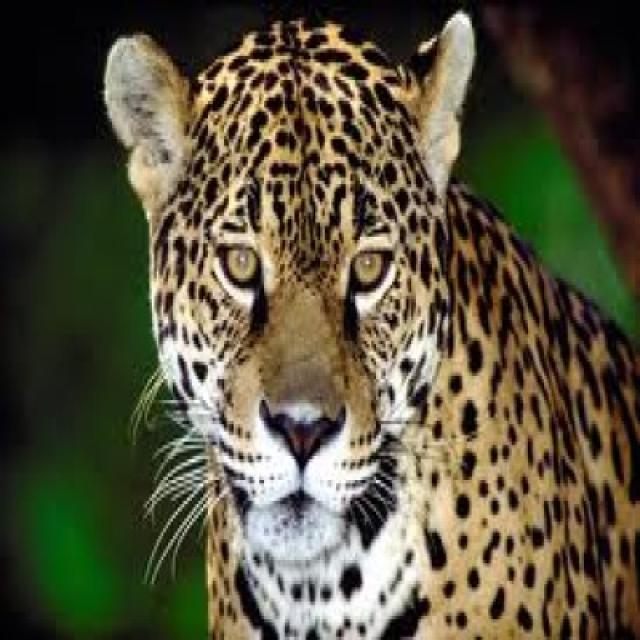Jaguar: (101, 13, 638, 638)
